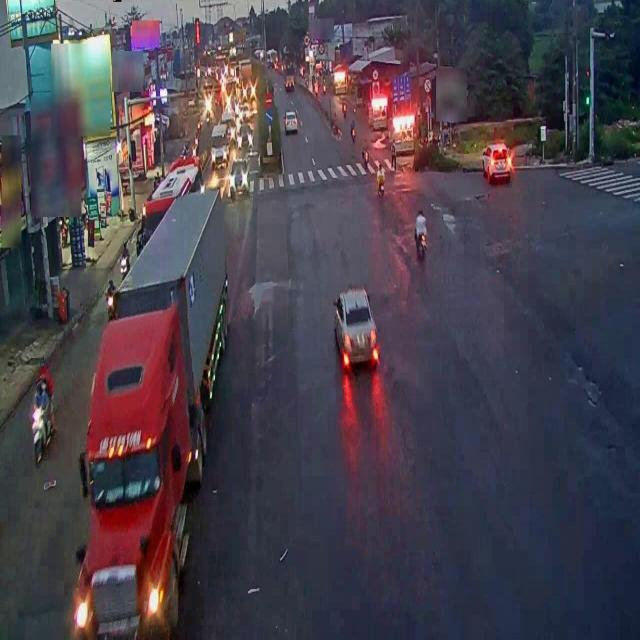car: (332, 283, 380, 372)
motorcycle: (30, 380, 52, 464), (412, 210, 430, 257)
truck: (74, 189, 236, 639)
